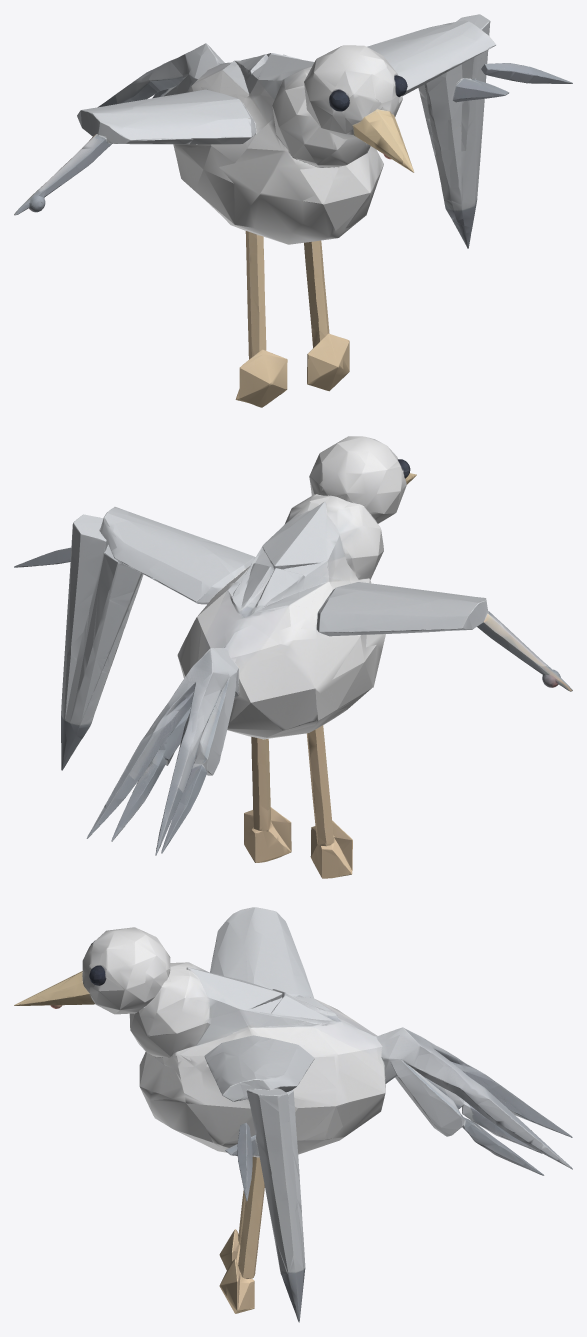
The picture shows the model from 3 angles, top to bottom: view 1: azimuth 30°, elevation 25°; view 2: azimuth 150°, elevation 25°; view 3: azimuth 270°, elevation 25°; orthographic projection. The views are drawn at different scales.
Parts seen in each view (by area): view 1: Mesh_0; view 2: Mesh_0; view 3: Mesh_0.
Boxes of the visible parts, x1=… form: Mesh_0: x1=14, y1=14, x2=572, y2=407; Mesh_0: x1=14, y1=436, x2=572, y2=878; Mesh_0: x1=14, y1=907, x2=572, y2=1322.
Bounding box in the file's own units: 1.89 × 1.26 × 1.74.
1 material, 1 textured.
